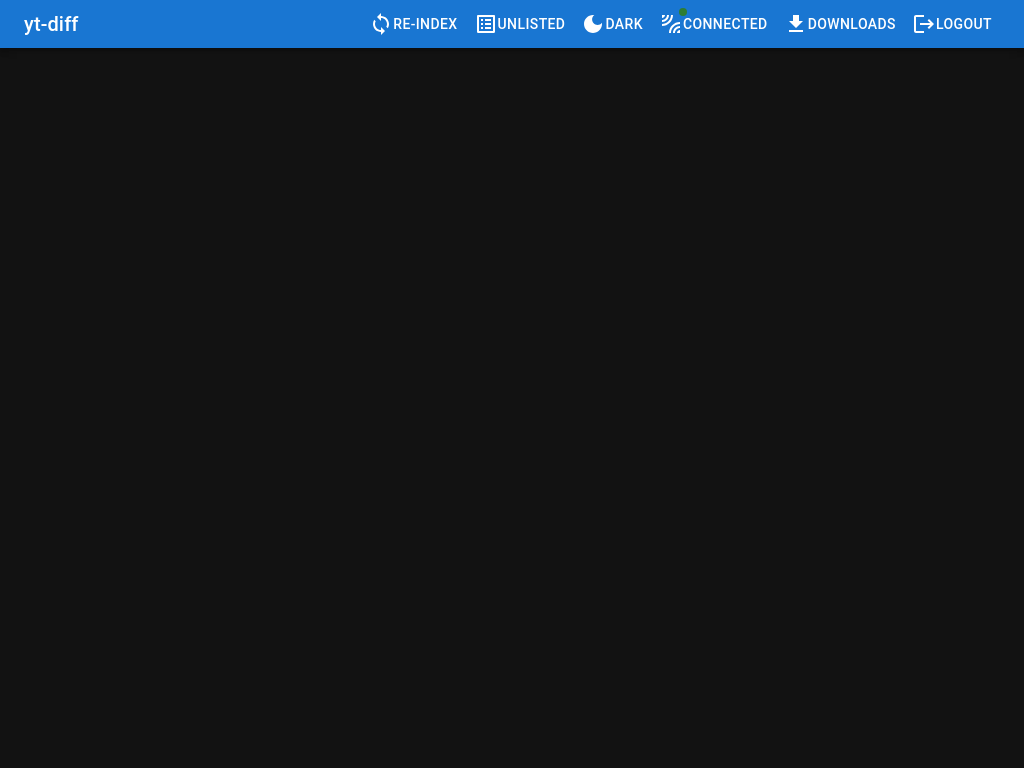
Test: Nav Component (Mobile) › opens notifications drawer on mobile and displays notifications log
The image size is (1024, 768).
Click the button "Connected" at x=713, y=24, box x1=651 y1=4 x2=776 y2=44
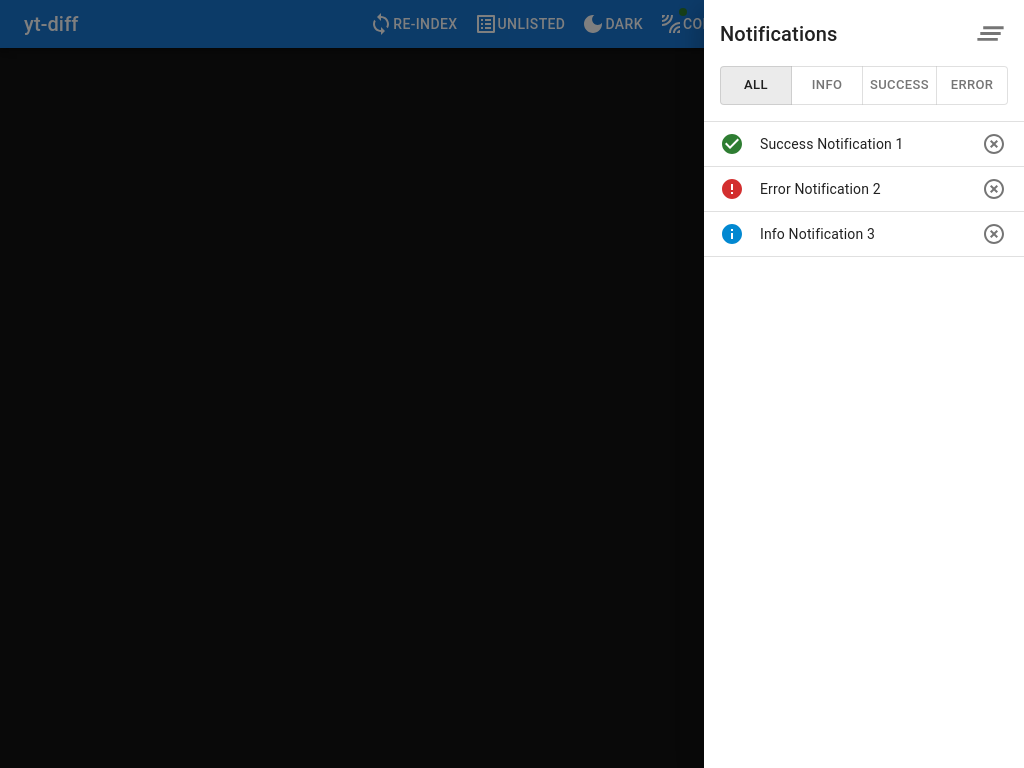
Now the text "Notifications" is shown, box x1=720 y1=18 x2=838 y2=50
Now the text "Success Notification 1" is shown, box x1=760 y1=136 x2=904 y2=152
Now the text "Error Notification 2" is shown, box x1=760 y1=181 x2=881 y2=197
